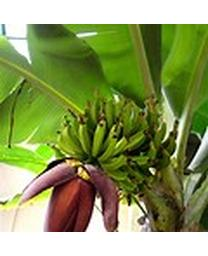banana: (57, 92, 180, 198)
